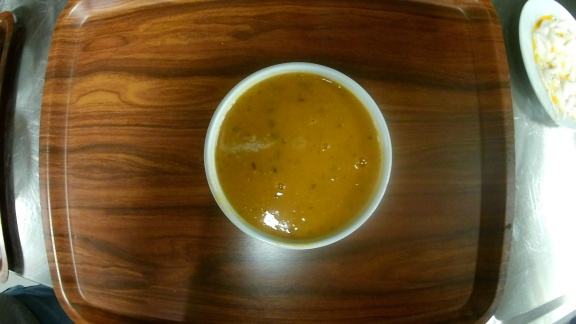ezogelin: (201, 62, 395, 250)
